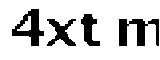4: (10, 7, 45, 48)
m: (115, 14, 160, 50)
t: (80, 9, 103, 49)
x: (46, 16, 77, 50)
